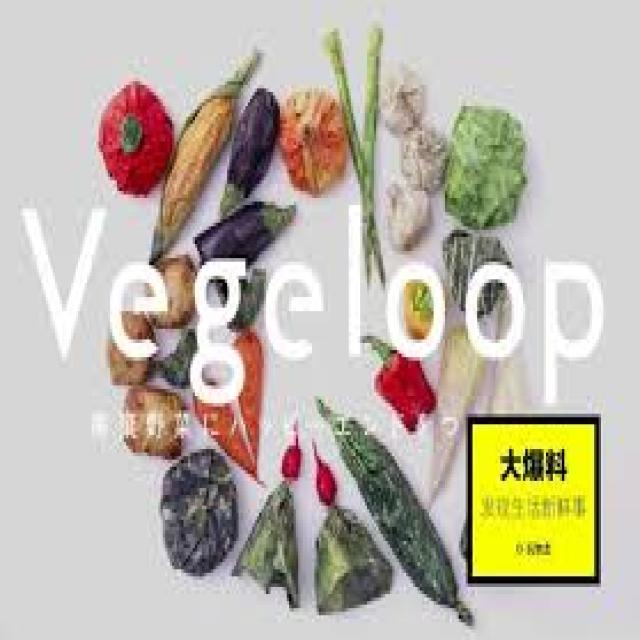food_waste: (99, 28, 525, 569), (317, 400, 470, 619), (369, 322, 482, 491), (190, 269, 262, 474), (312, 446, 390, 612), (234, 428, 298, 605)
